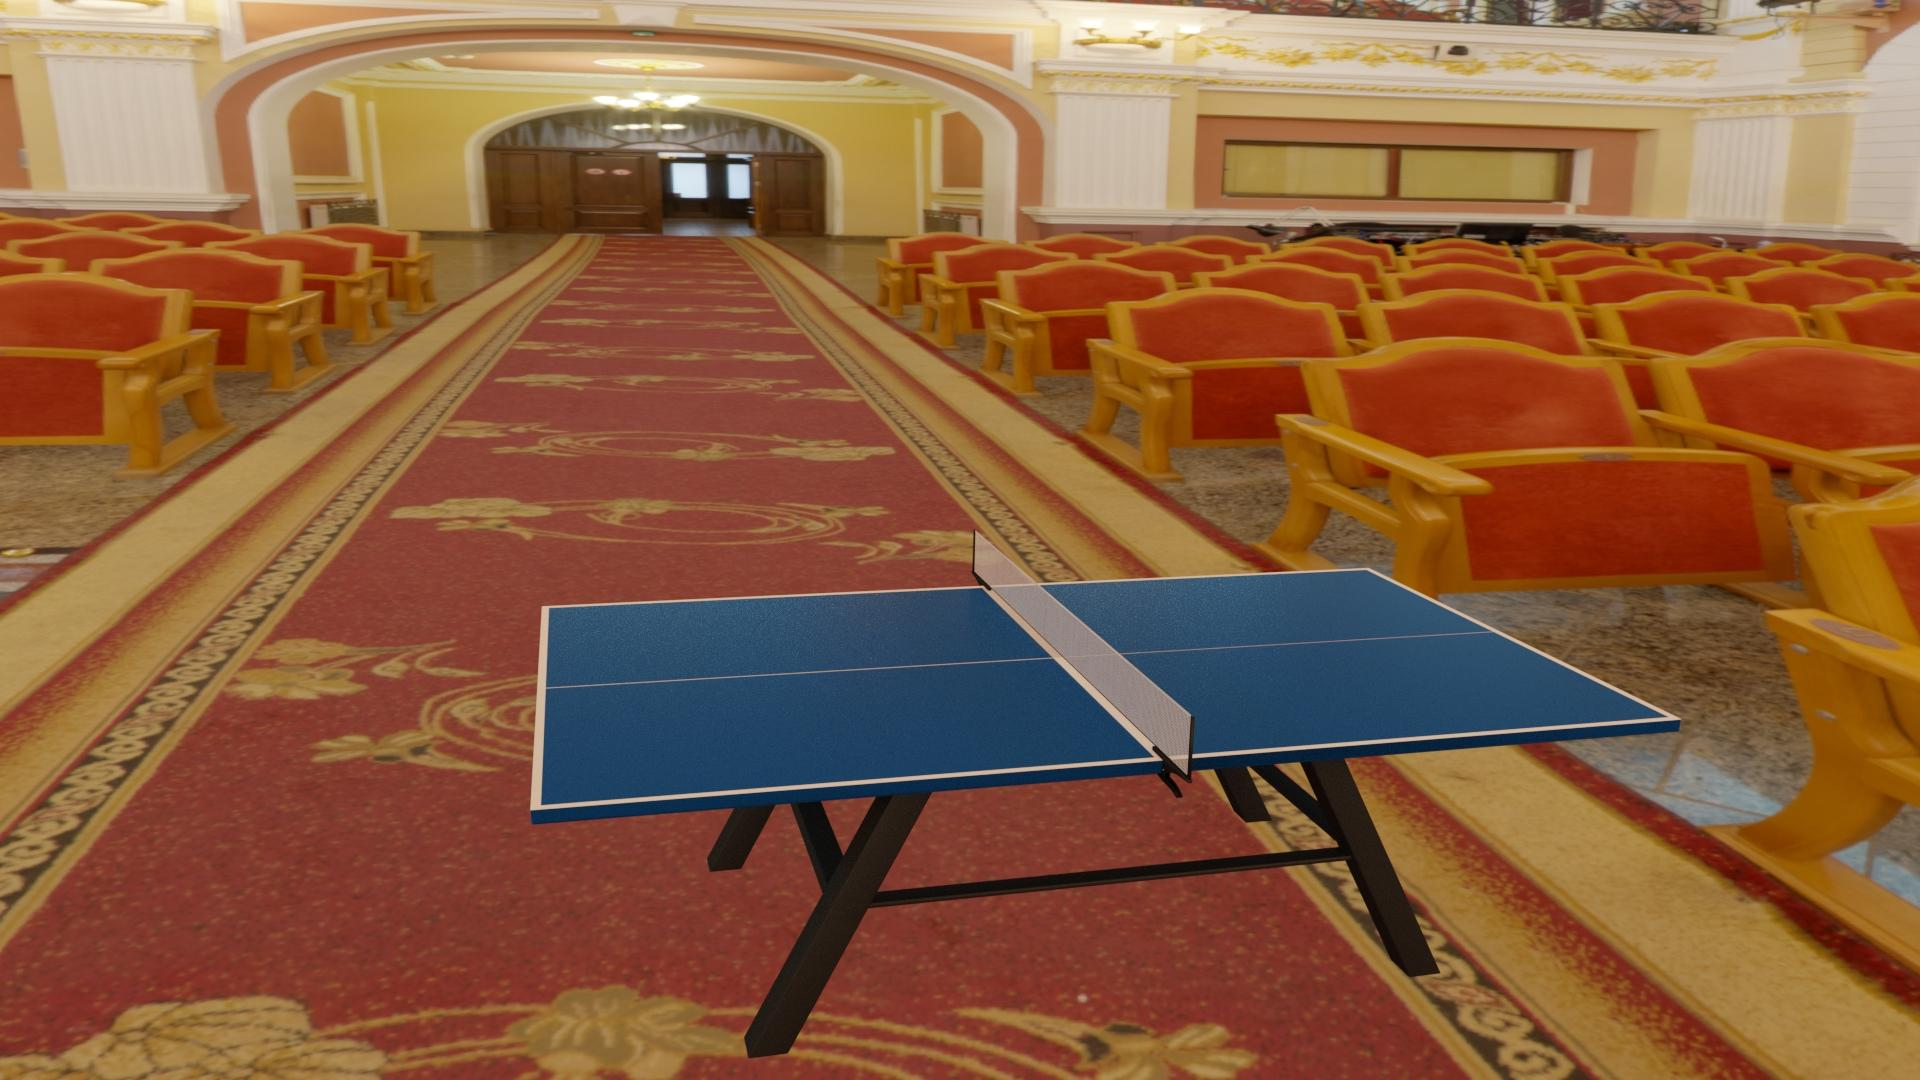table: (541, 570, 1669, 806)
